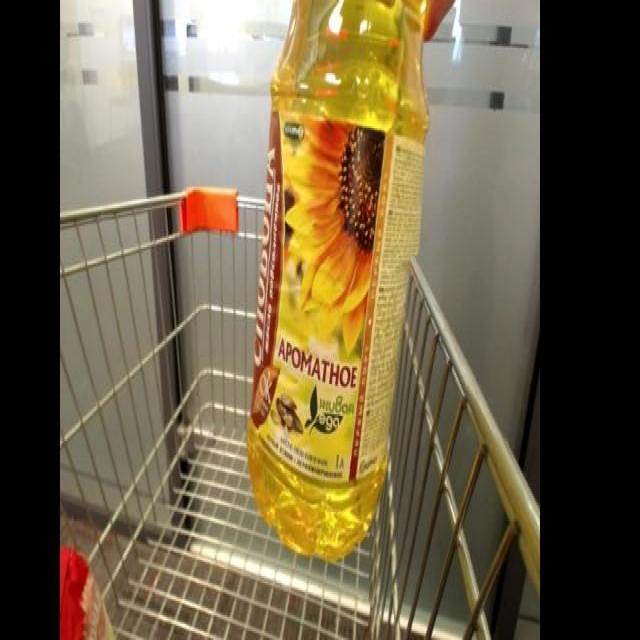Oil: (243, 1, 435, 566)
